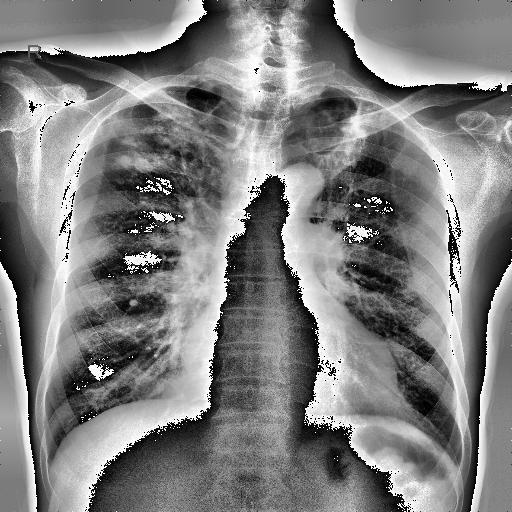0- Aortic enlargement: (270, 160, 322, 209)
11- Pleural thickening: (164, 76, 222, 92)
13- Pulmonary fibrosis: (116, 102, 224, 200), (104, 93, 221, 177), (109, 110, 205, 172), (311, 102, 378, 168), (309, 99, 380, 145), (312, 99, 376, 144)
6- Infiltration: (109, 110, 205, 172)
8- Nodule-Mass: (135, 158, 151, 172), (116, 156, 133, 168)
9- Other lesion: (135, 158, 151, 172), (116, 156, 133, 168)
